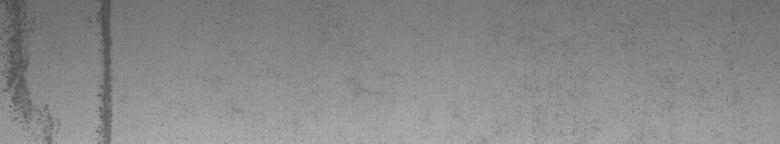hd: (4, 4, 117, 136)
